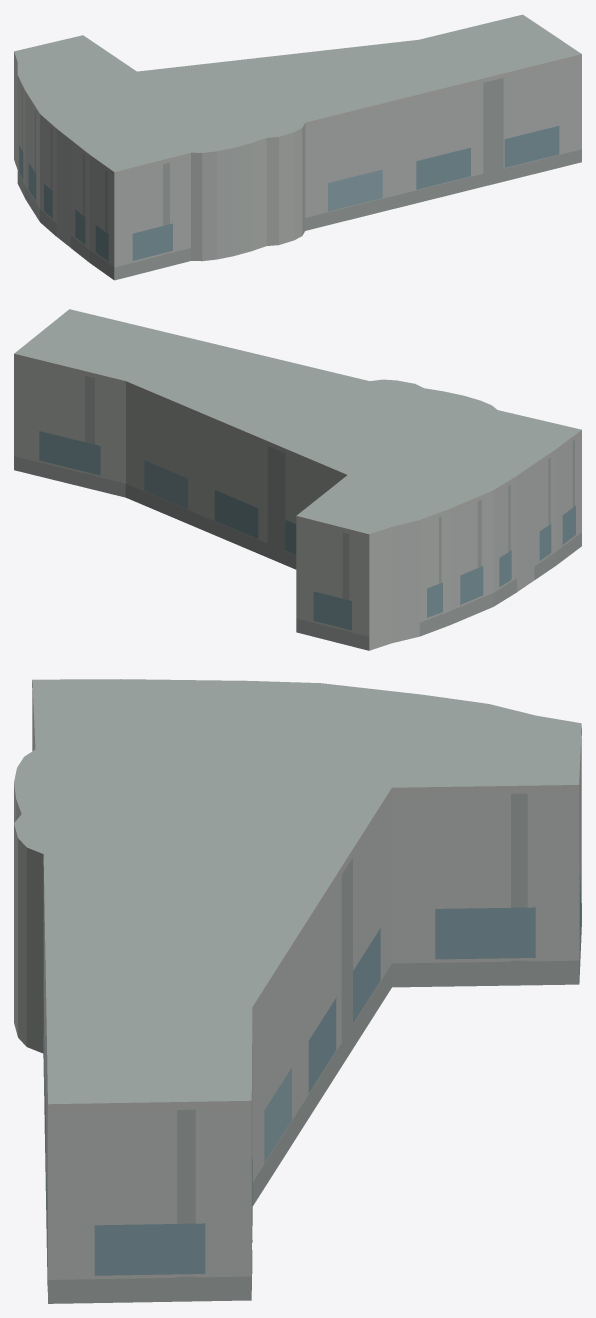
Rendered from survey-upis-32730868.glb.
3 renders of one model, top to bottom at view 1: azimuth 30°, elevation 25°; view 2: azimuth 150°, elevation 25°; view 3: azimuth 270°, elevation 25°, orthographic. The views are drawn at different scales.
Visible parts, largest first — view 1: survey-upis-32730868.tmp; view 2: survey-upis-32730868.tmp; view 3: survey-upis-32730868.tmp.
Part boxes in pixels (x1,y1,x2,y2): survey-upis-32730868.tmp: [14, 14, 581, 280]; survey-upis-32730868.tmp: [14, 309, 581, 650]; survey-upis-32730868.tmp: [14, 679, 581, 1303].
Bounding box in the file's own units: 27.87 × 6.1 × 15.73.
